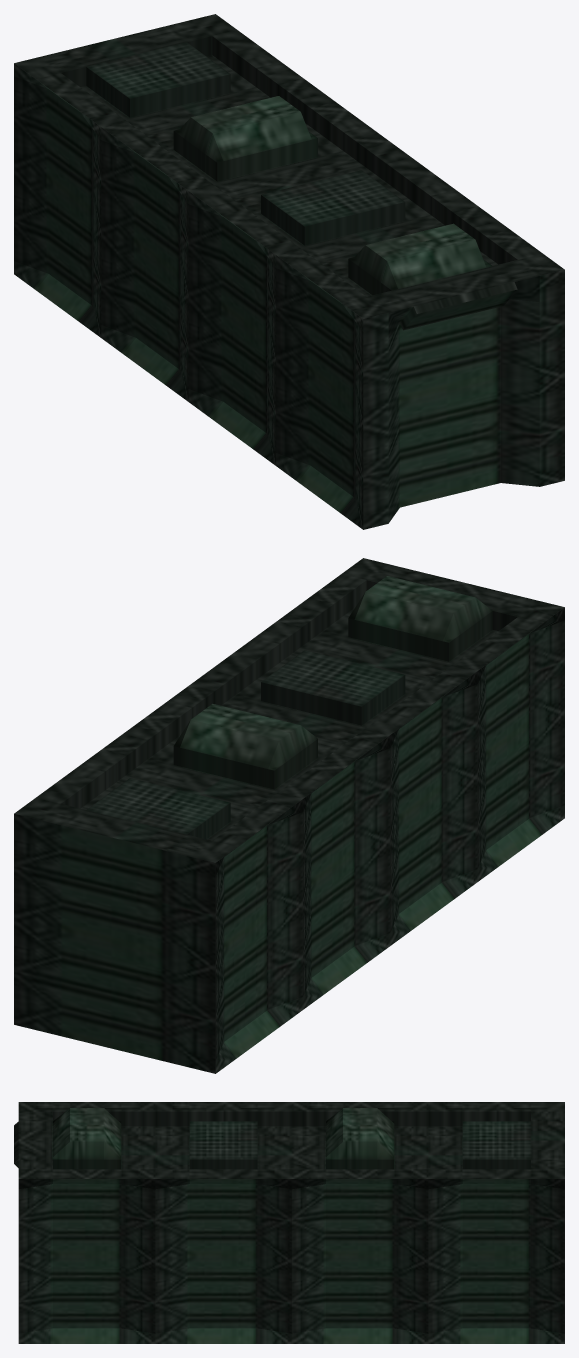
The model's file is outland_building_entrance00.fbx.
The picture shows the model from 3 angles, top to bottom: view 1: azimuth 30°, elevation 25°; view 2: azimuth 150°, elevation 25°; view 3: azimuth 270°, elevation 25°; orthographic projection. The views are drawn at different scales.
Visible parts, largest first — view 1: Cube; view 2: Cube; view 3: Cube.
Boxes of the visible parts, x1,y1,x2,y2 form: Cube: (14,14,564,529); Cube: (14,558,564,1073); Cube: (14,1102,564,1343).
Bounding box in the file's own units: 400 × 438 × 1211.
Materials: 1 (1 with a texture image).
